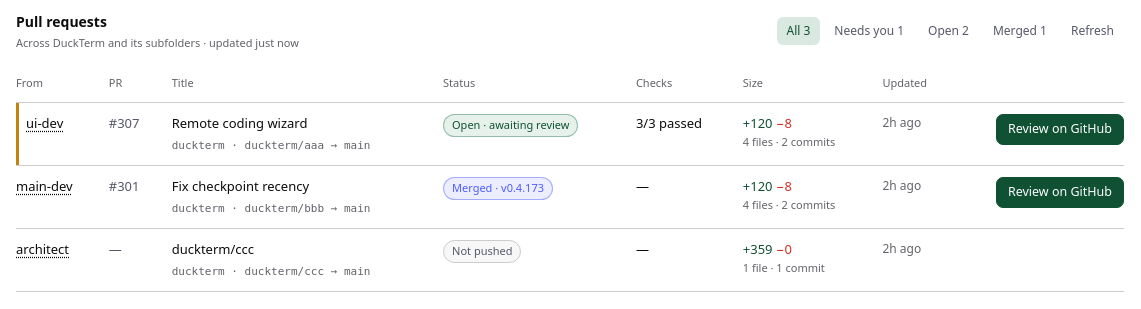
Test: renders rows with their status and filters to what needs the owner
Expected: the number of rows is 4, [16,64,1124,102]; [16,102,1124,166]; [16,166,1124,228]; [16,228,1124,292]
Expected: the text "3/3 passed" is shown, [636,114,702,132]
Step 1. Click the button "Needs you 1" → point(869, 31), box [824,17,914,45]
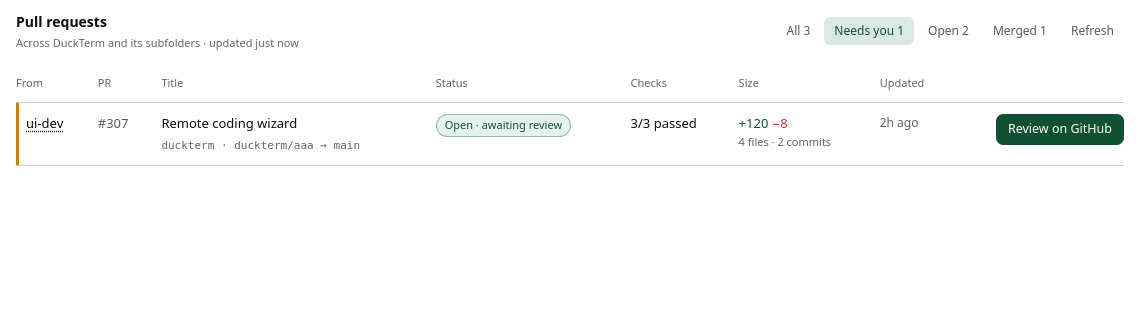
Expected: the number of rows is 2, [16,64,1124,102]; [16,102,1124,166]
Expected: the text "Merged · v0.4.173" is gone
Step 2. Click the button "Merged 1" → point(1020, 31), box [983,17,1057,45]
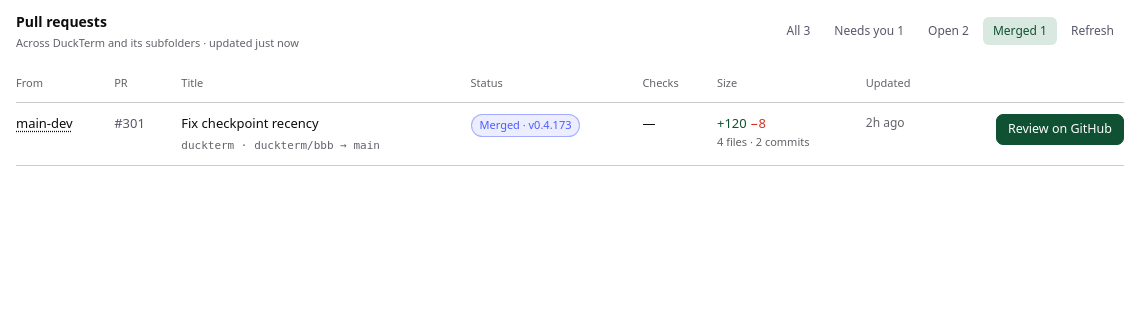
Expected: the text "Merged · v0.4.173" is shown, [470,114,580,136]
